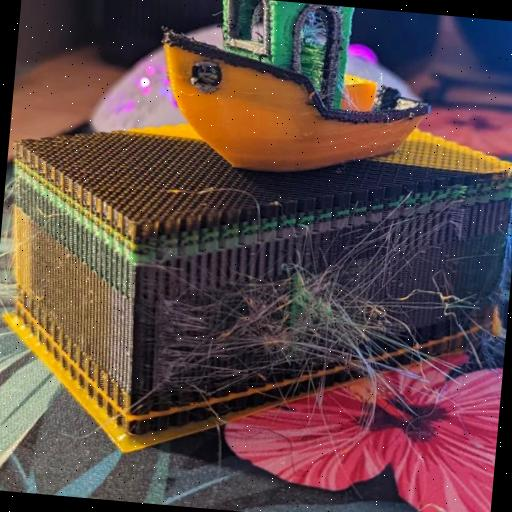stringing: (208, 254, 388, 387)
